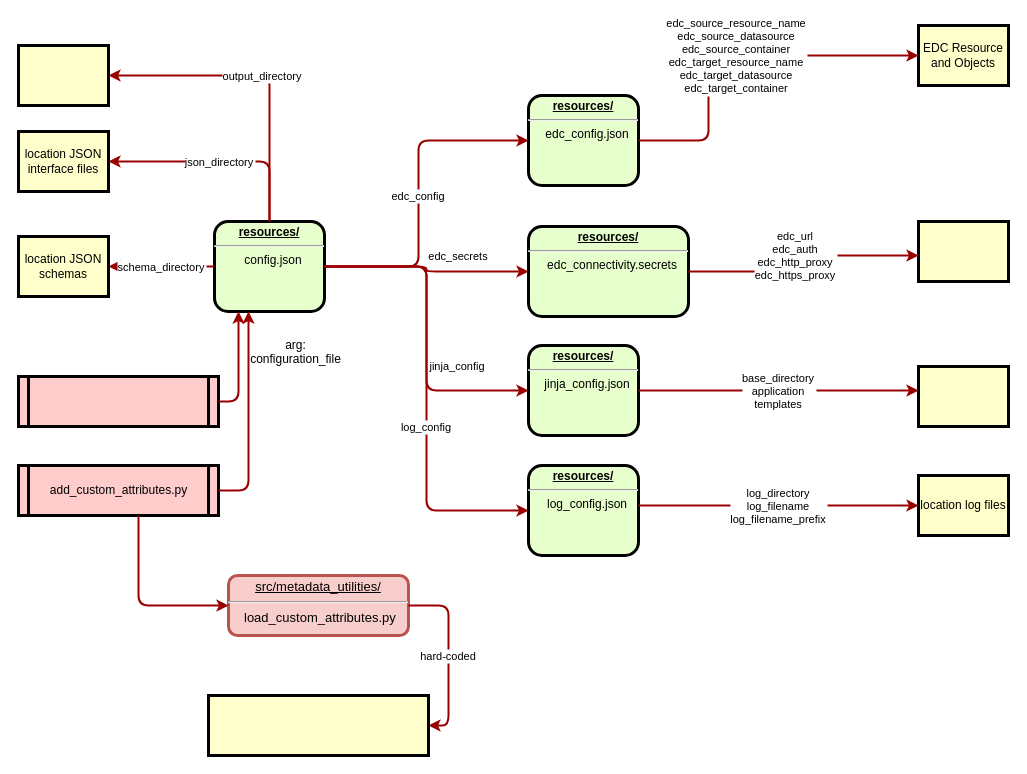
The diagram is 1027 pixels wide and 774 high, and some of its shapes have lost their labels. Each missing label, with the centre of its shape:
EDC REST APIs: pixel 963 251
location jinja files: pixel 963 396
location output files: pixel 63 75
resources/ edc/ custom_attributes/ edc_defined_custom_attributes.json: pixel 318 725
run_edc_lineage.py: pixel 118 401
